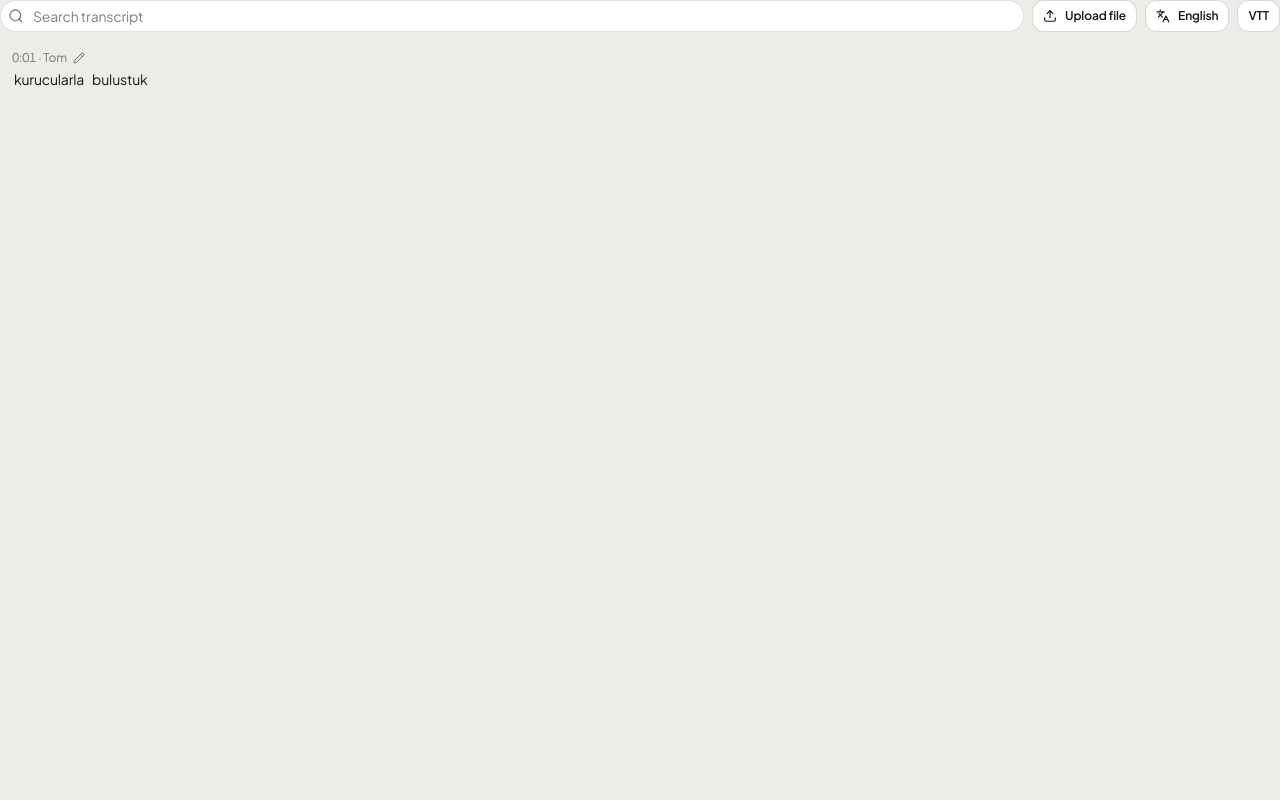
Test: TranscriptPane line editing › saves the edit, swaps the line in and asks the player to reload its tracks
This screenshot has width=1280, height=800.
Expected: the button "kurucularla" is shown, [12,68,86,91]
Click the button named "Edit line": (79, 58) [71,50,87,66]
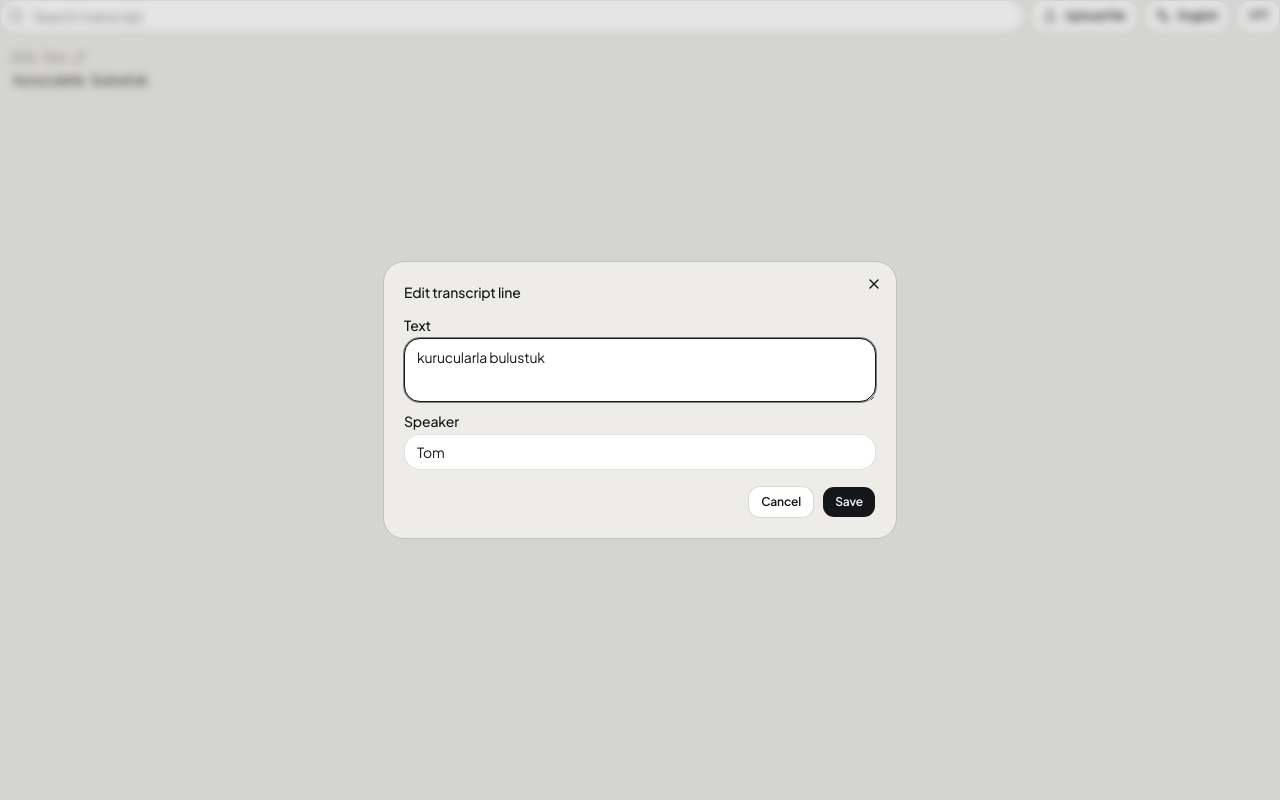
Replace the text in the text box labelled "Text" with "kuruculari bulduk": (640, 370) [404,338,876,402]
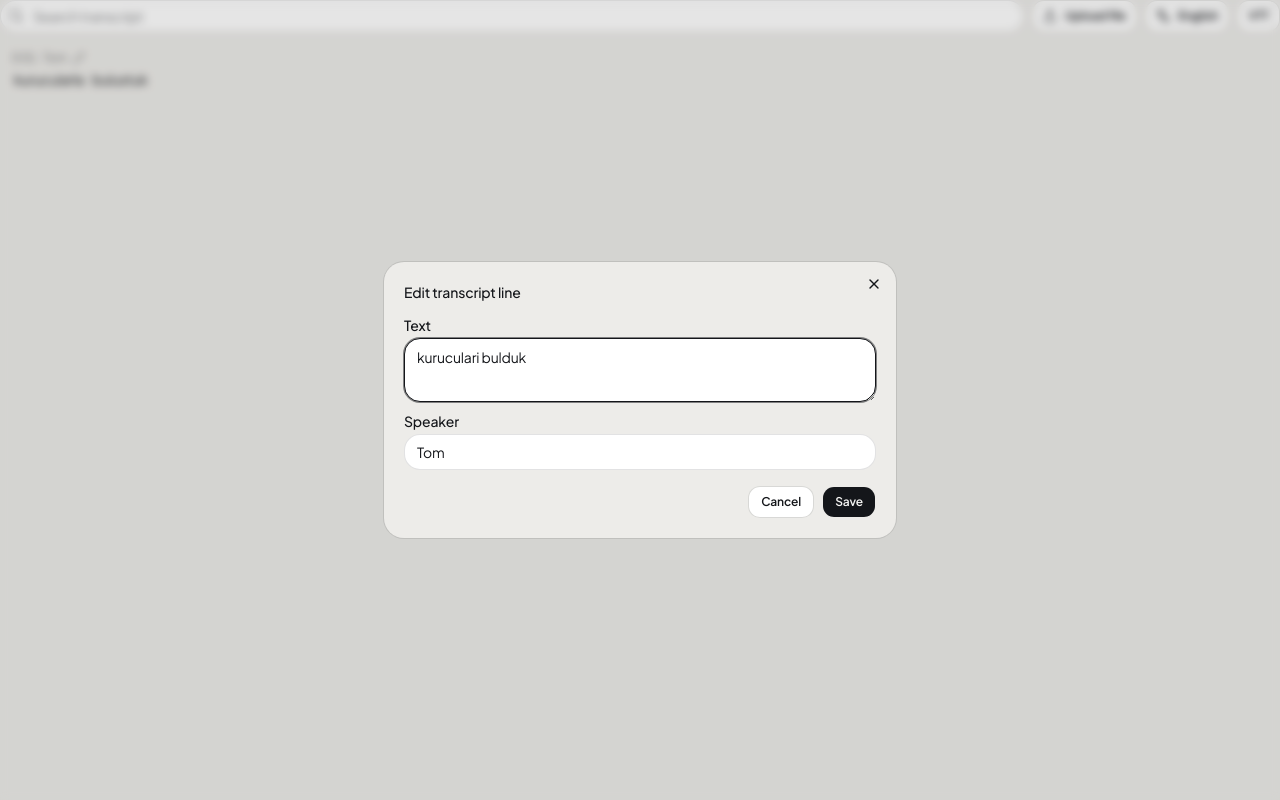
Replace the text in the field labelled "Speaker" with "Ada": (640, 452) [404,434,876,470]
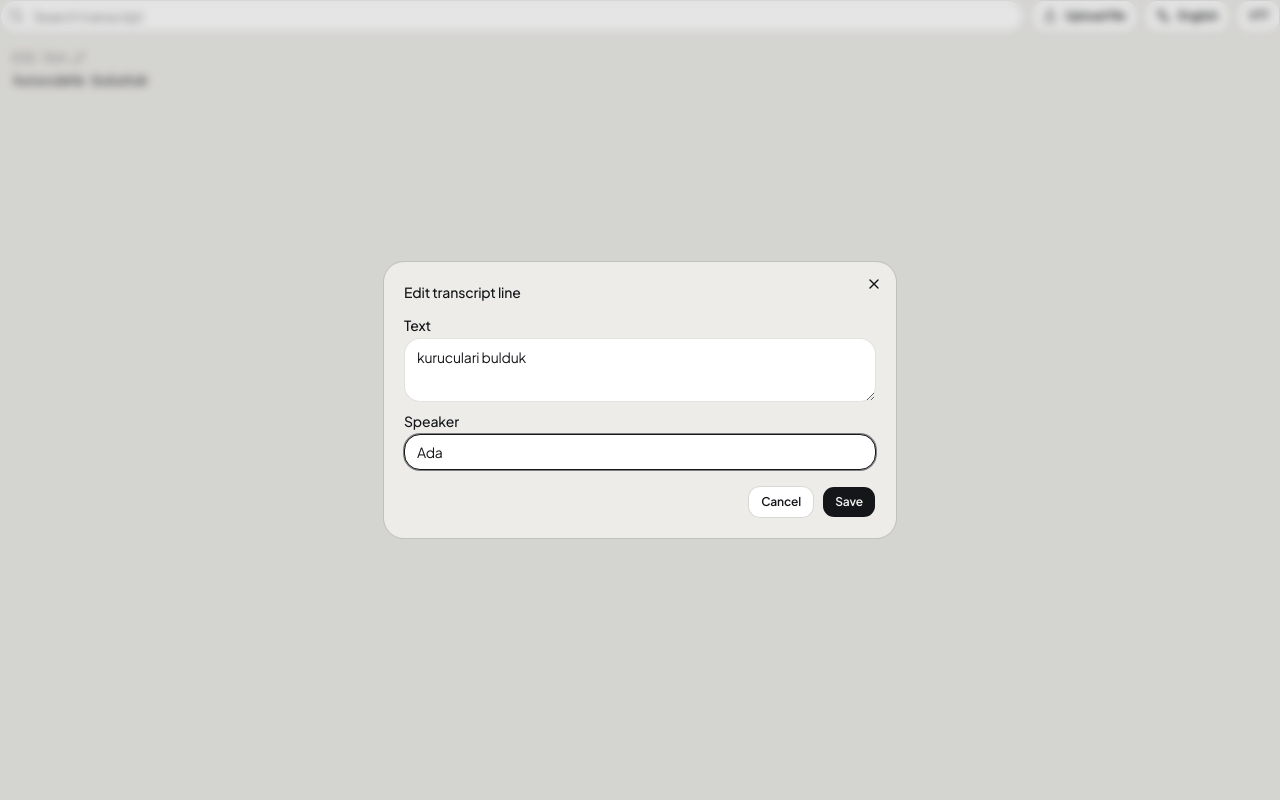
Click the button "Save": (849, 502) [822,486,876,518]
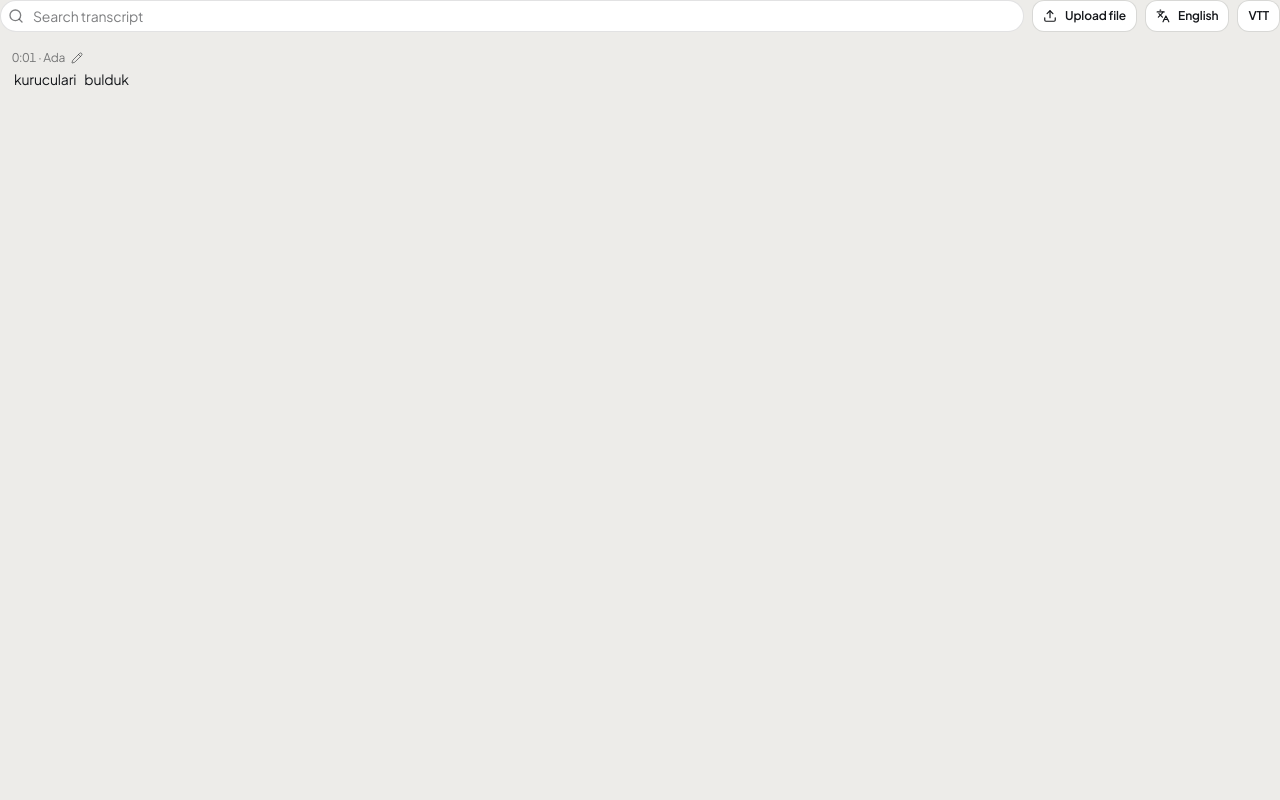
Expected: the dialog is gone
Expected: the button "kuruculari" is shown, [12,68,78,91]
Click the button named "Edit line": (77, 58) [69,50,85,66]
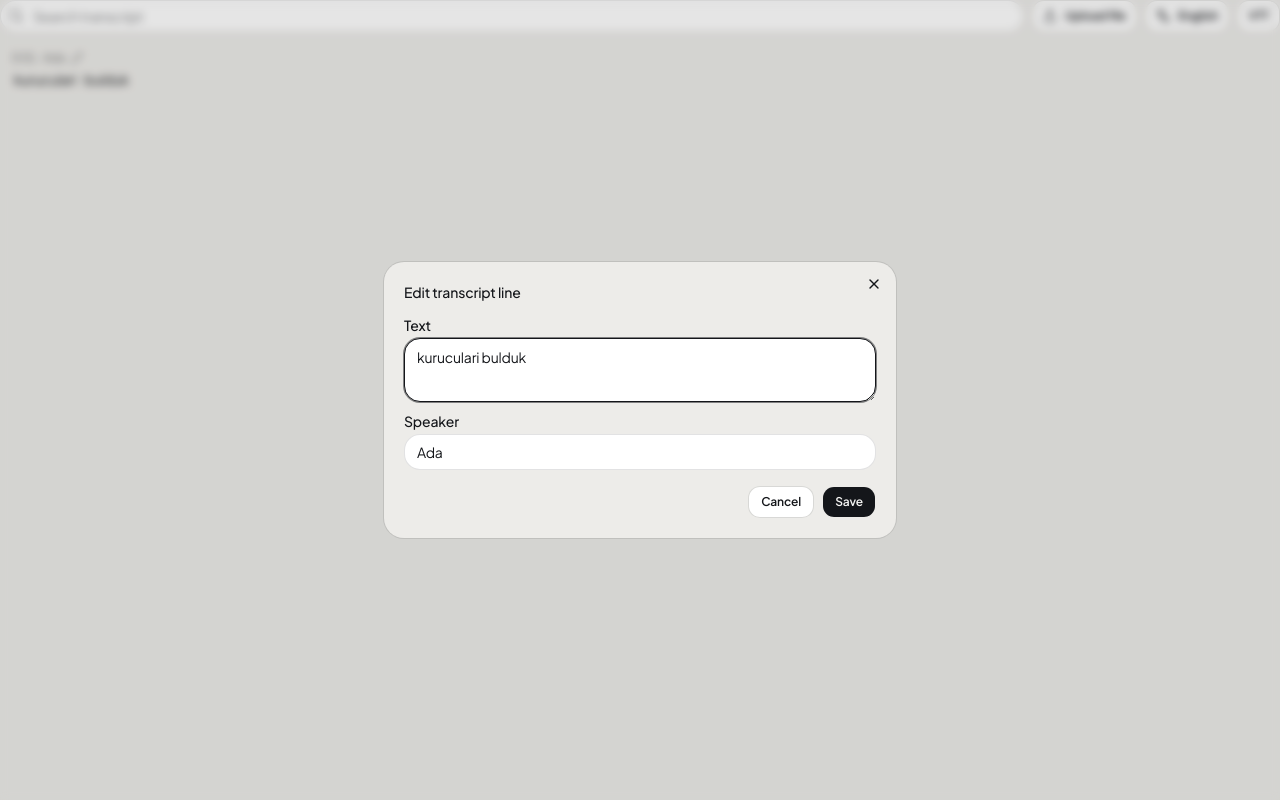
Expected: the text box labelled "Text" holds "kuruculari bulduk", [404,338,876,402]
